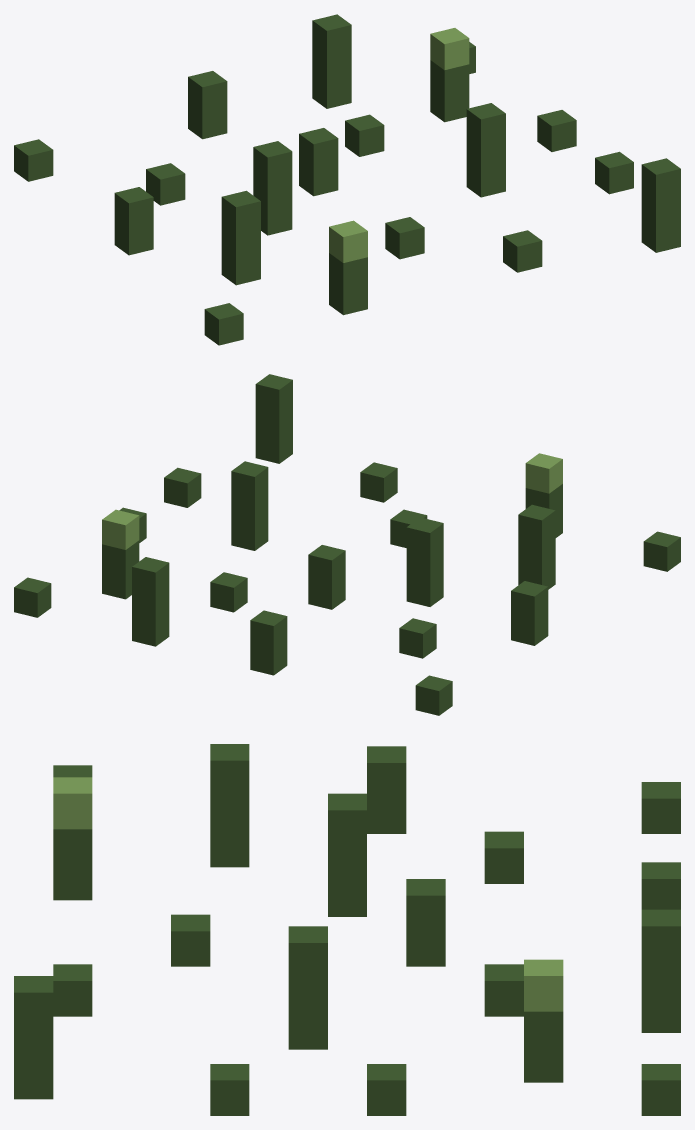
The model's file is ambient_grass_3.fbx.
3 views of the same model, one above another, from view 1: azimuth 30°, elevation 25°; view 2: azimuth 150°, elevation 25°; view 3: azimuth 270°, elevation 25° (orthographic). The views are drawn at different scales.
Visible parts, largest first — view 1: Cube.044; view 2: Cube.044; view 3: Cube.044.
Boxes of the visible parts, bbox=[...] form: Cube.044: bbox=[14, 14, 680, 345]; Cube.044: bbox=[14, 374, 680, 715]; Cube.044: bbox=[14, 744, 680, 1115].
Size of the model in its own units: 190 by 30 by 170.
